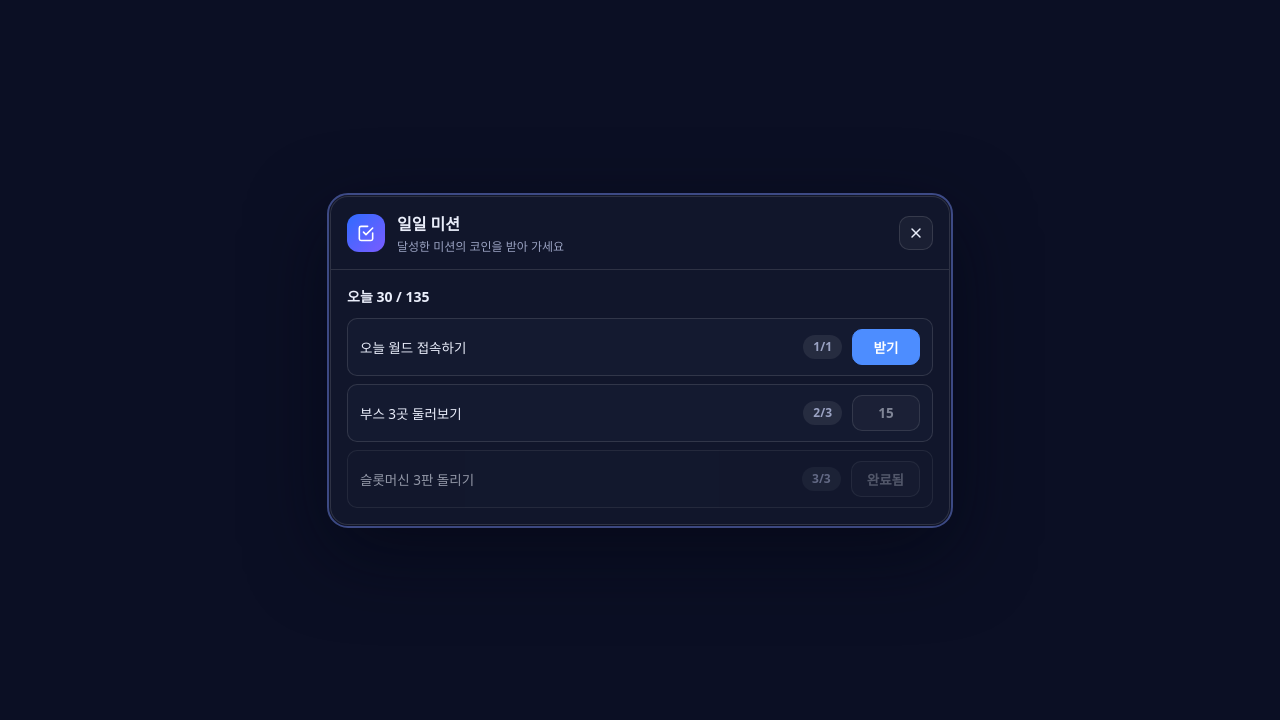
Test: 수령 › MEMBER_ONLY 는 회원 안내로 갈린다
Click the button "받기" at [886, 346], box 852,328 -> 920,364
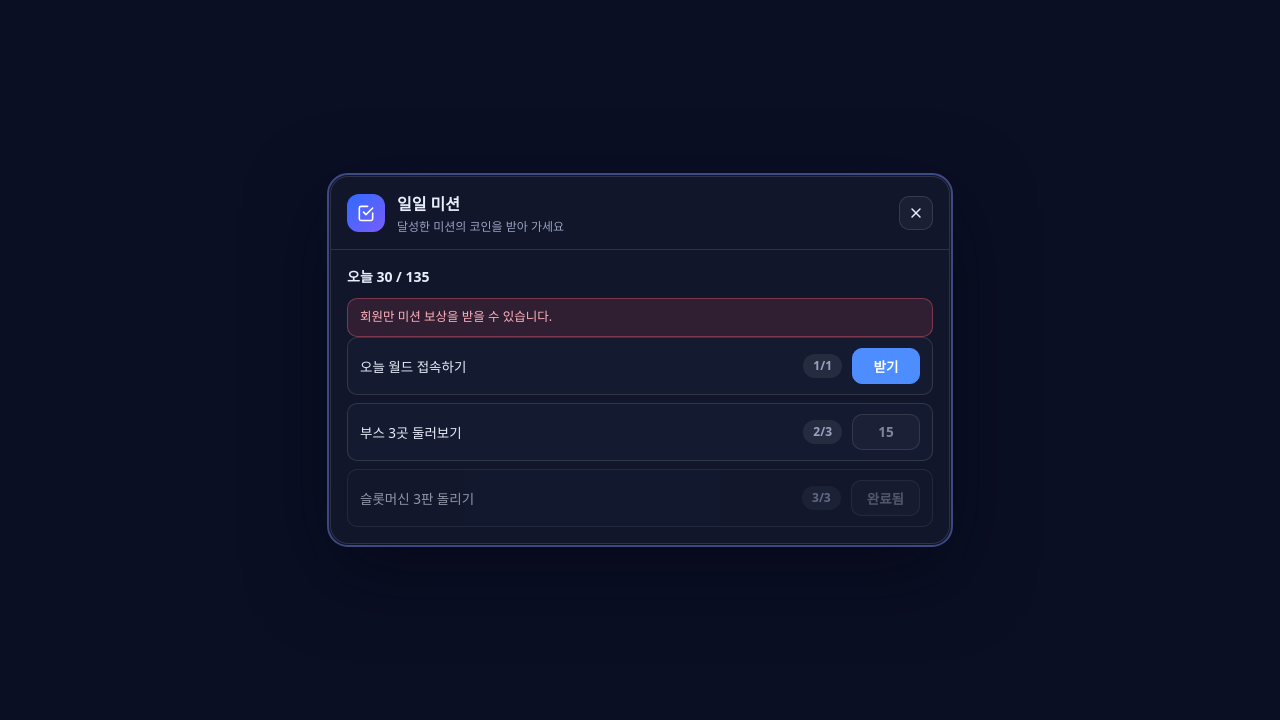
Now the message shows "회원만", box 360,308 -> 552,325
